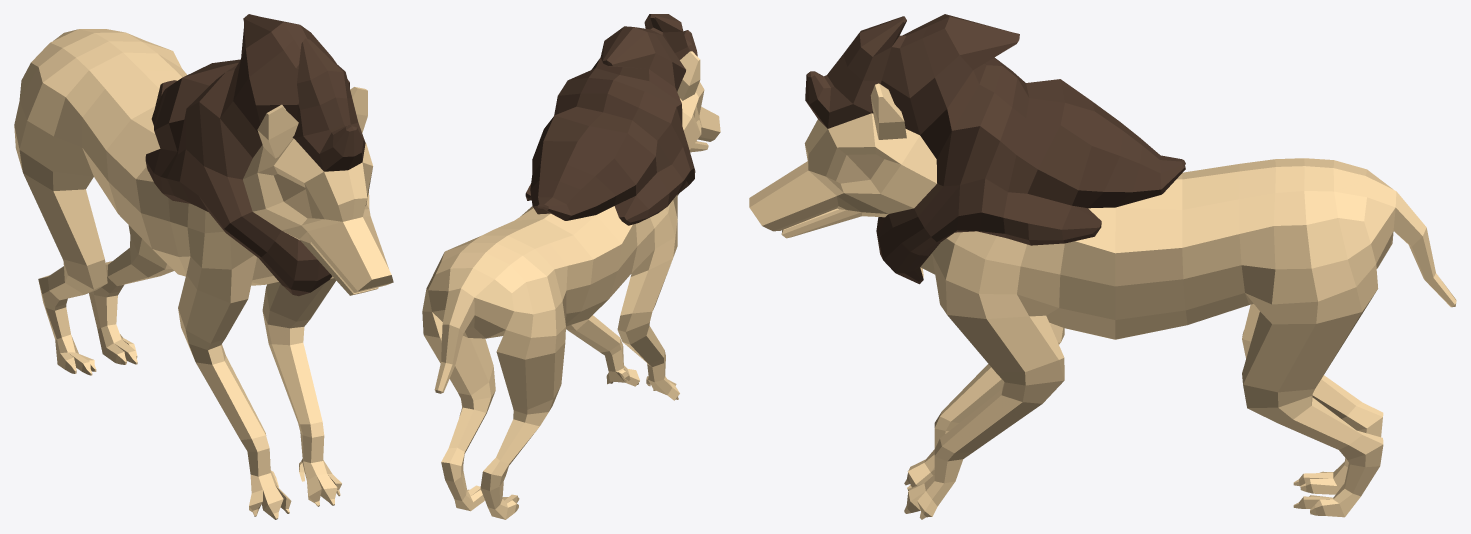
File: White.fbx
3 views of the same model, side by side, from view 1: azimuth 30°, elevation 25°; view 2: azimuth 150°, elevation 25°; view 3: azimuth 270°, elevation 25° (orthographic). The views are drawn at different scales.
Visible parts, largest first — view 1: White; view 2: White; view 3: White.
Boxes of the visible parts, box(x1,y1,x2,y2) form: White: box(14, 14, 393, 519); White: box(422, 14, 720, 519); White: box(749, 14, 1456, 519).
Bounding box in the file's own units: 20.05 × 50.75 × 67.
